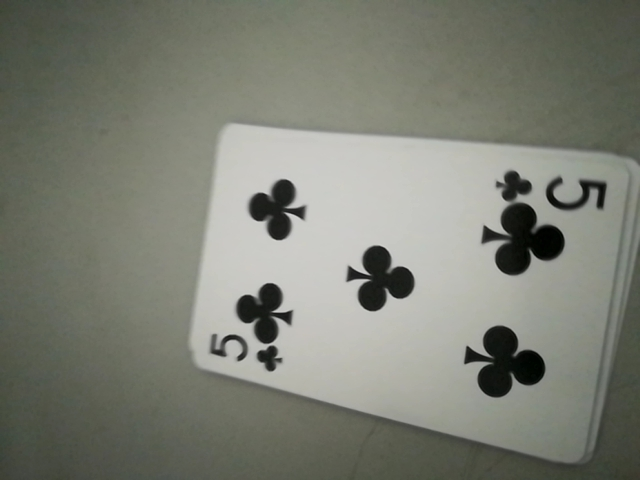mh 5: (497, 164, 609, 211), (203, 330, 290, 377)
